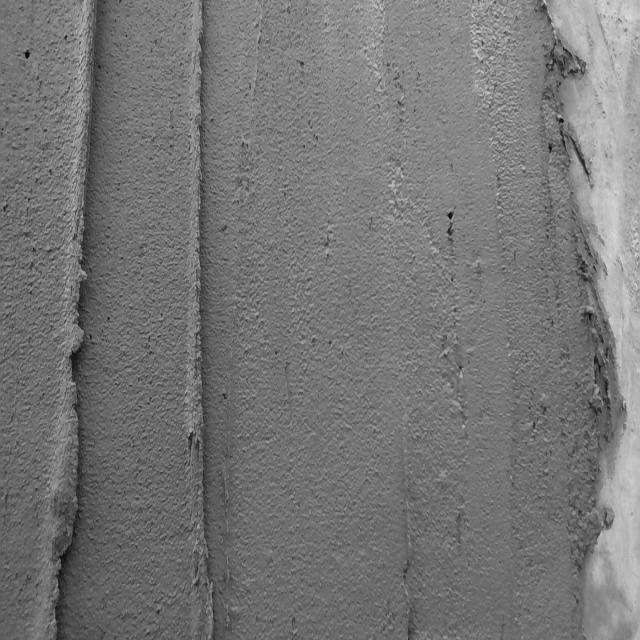trowels marks: (37, 3, 109, 640), (181, 3, 221, 640), (395, 432, 415, 640)
